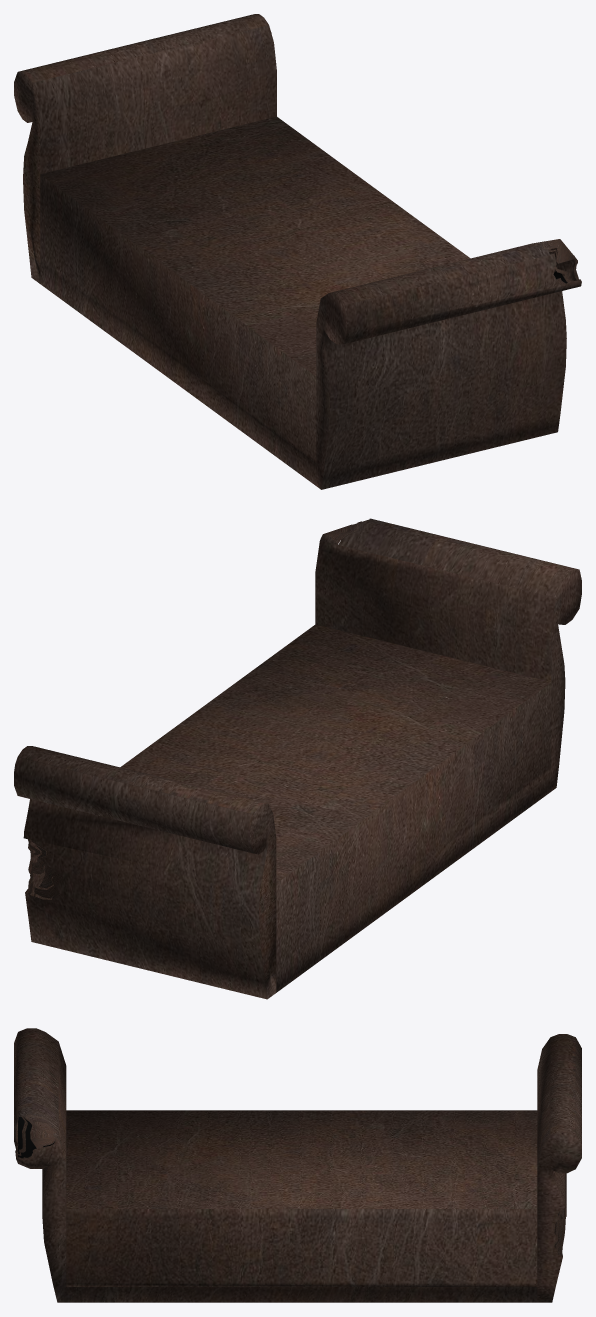
The model's file is Couch base.fbx.
The picture shows the model from 3 angles, top to bottom: view 1: azimuth 30°, elevation 25°; view 2: azimuth 150°, elevation 25°; view 3: azimuth 270°, elevation 25°; orthographic projection. The views are drawn at different scales.
Visible parts, largest first — view 1: Cube; view 2: Cube; view 3: Cube.
Boxes of the visible parts, x1,y1,x2,y2 form: Cube: [14, 14, 581, 489]; Cube: [14, 518, 581, 999]; Cube: [14, 1028, 581, 1302].
Size of the model in its own units: 235 by 190 by 556.
